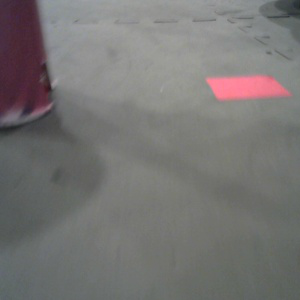middle: (1, 1, 59, 134)
